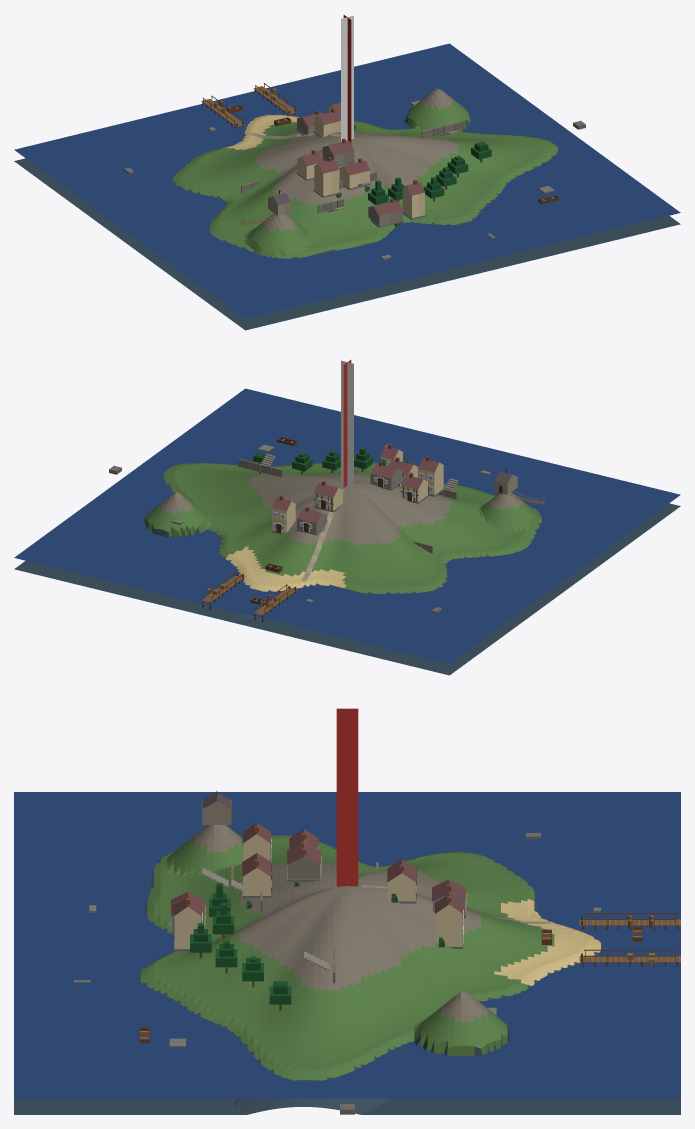
File: scene_bad_v4_chapel.obj
The picture shows the model from 3 angles, top to bottom: view 1: azimuth 30°, elevation 25°; view 2: azimuth 150°, elevation 25°; view 3: azimuth 270°, elevation 25°; orthographic projection. The views are drawn at different scales.
Parts seen in each view (by area): view 1: water, terrain, lighthouse_tower, house_3_two_story, house_9_two_story, house_8_stone, house_4_timber, house_2_stone, house_7_timber, house_1_timber; view 2: water, terrain, lighthouse_tower, house_6_two_story, house_3_two_story, house_7_timber, house_2_stone, house_5_stone, house_1_timber, wall_2, pier_1; view 3: water, terrain, lighthouse_tower, house_6_two_story, house_2_stone, house_4_timber, house_9_two_story, house_7_timber, pier_2, pier_1, house_3_two_story, chapel_1 (+1 smaller).
Boxes of the visible parts, x1,y1,x2,y2 form: water: (14,43,680,318); terrain: (14,88,680,330); lighthouse_tower: (341,15,353,142); house_3_two_story: (313,157,339,197); house_9_two_story: (402,179,425,219); house_8_stone: (368,198,403,227); house_4_timber: (339,158,370,189); house_2_stone: (322,138,354,166); house_7_timber: (313,108,340,137); house_1_timber: (296,150,323,180); water: (14,388,680,663); terrain: (14,462,680,675); lighthouse_tower: (341,360,353,487); house_6_two_story: (271,495,295,534); house_3_two_story: (418,456,444,496); house_7_timber: (313,480,343,512); house_2_stone: (370,461,402,490); house_5_stone: (296,506,327,535); house_1_timber: (401,472,428,503); wall_2: (238,454,282,477); pier_1: (253,584,297,621); water: (14,792,680,1098); terrain: (14,825,680,1114); lighthouse_tower: (336,708,358,886); house_6_two_story: (435,894,463,948); house_2_stone: (287,842,321,881); house_4_timber: (242,853,271,897); house_9_two_story: (174,897,202,951); house_7_timber: (387,859,416,903); pier_2: (579,949,680,966); pier_1: (579,912,680,929); house_3_two_story: (242,822,271,878); chapel_1: (202,791,231,824).
Bounding box in the file's own units: 104 × 38.5 × 92.
